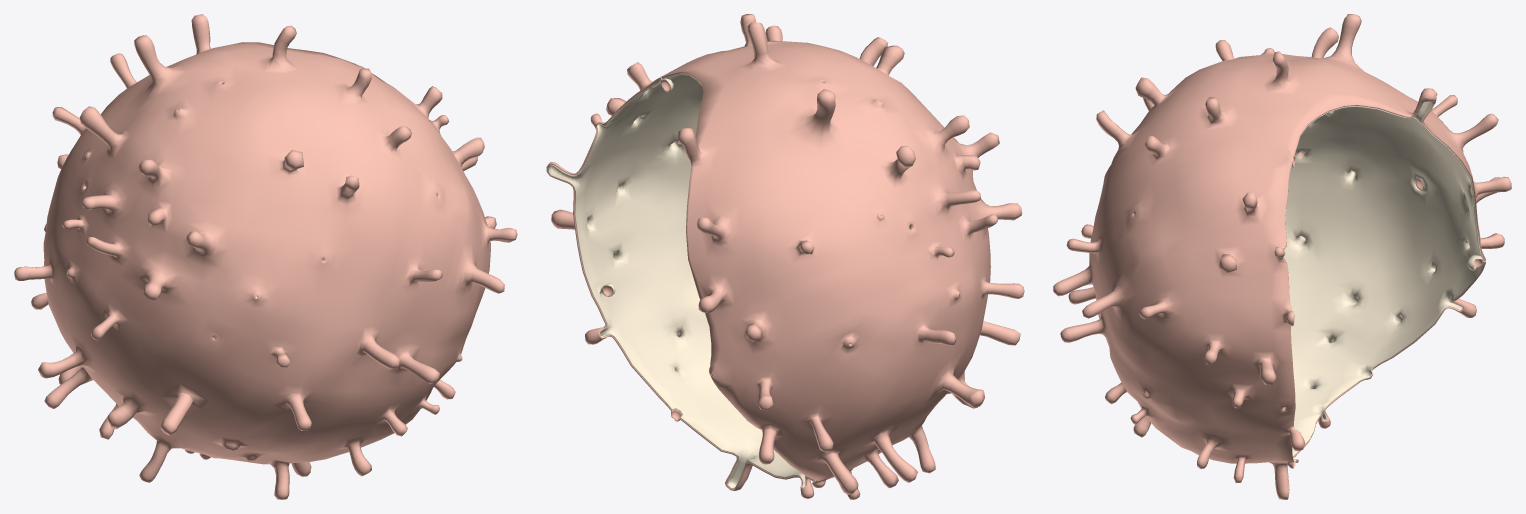
Rendered from cell_membrane.fbx.
The picture shows the model from 3 angles, left to right: view 1: azimuth 30°, elevation 25°; view 2: azimuth 150°, elevation 25°; view 3: azimuth 270°, elevation 25°; orthographic projection. The views are drawn at different scales.
Visible parts, largest first — view 1: Human_Cell_Membrane; view 2: Human_Cell_Membrane; view 3: Human_Cell_Membrane.
Boxes of the visible parts, x1,y1,x2,y2 form: Human_Cell_Membrane: [14, 14, 517, 499]; Human_Cell_Membrane: [546, 14, 1024, 499]; Human_Cell_Membrane: [1053, 14, 1511, 499].
Bounding box in the file's own units: 4356 × 4349 × 4120.
